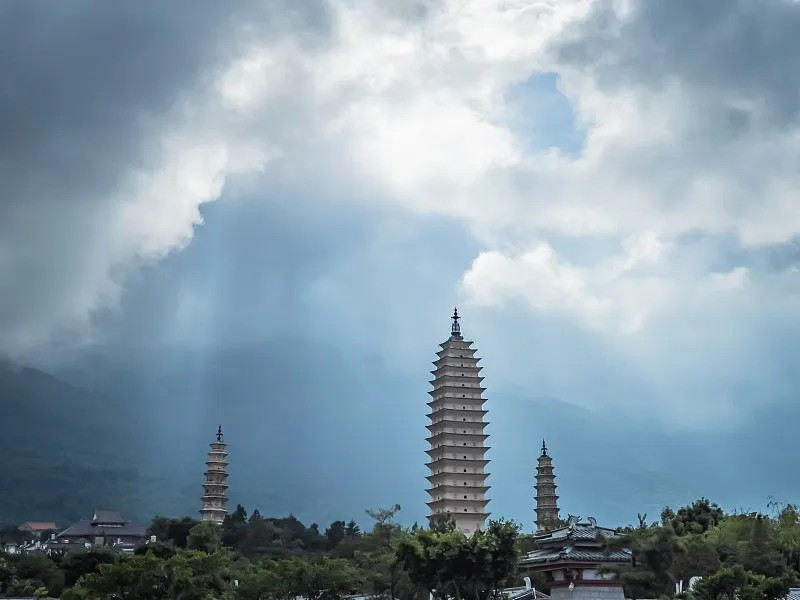ThreePagoda: (425, 308, 492, 540)
